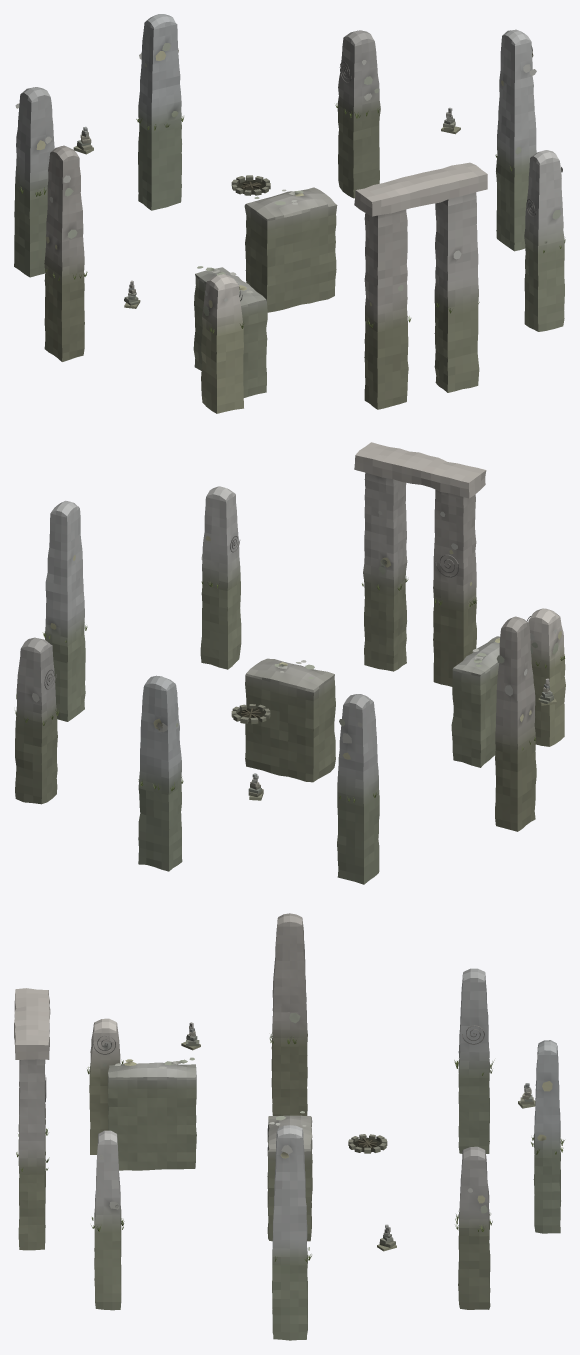
The model's file is mark_stones.glb.
The picture shows the model from 3 angles, top to bottom: view 1: azimuth 30°, elevation 25°; view 2: azimuth 150°, elevation 25°; view 3: azimuth 270°, elevation 25°; orthographic projection.
Visible parts, largest first — view 1: ashlar; view 2: ashlar; view 3: ashlar.
Part boxes in pixels (x1,y1,x2,y2): ashlar: (14, 14, 564, 413); ashlar: (15, 442, 565, 884); ashlar: (14, 913, 560, 1340).
Size of the model in its own units: 24.76 by 10.51 by 24.86.
